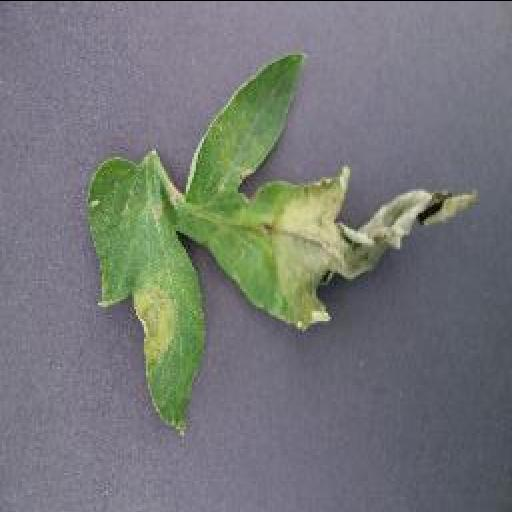disease_tomato: (84, 50, 478, 436)
